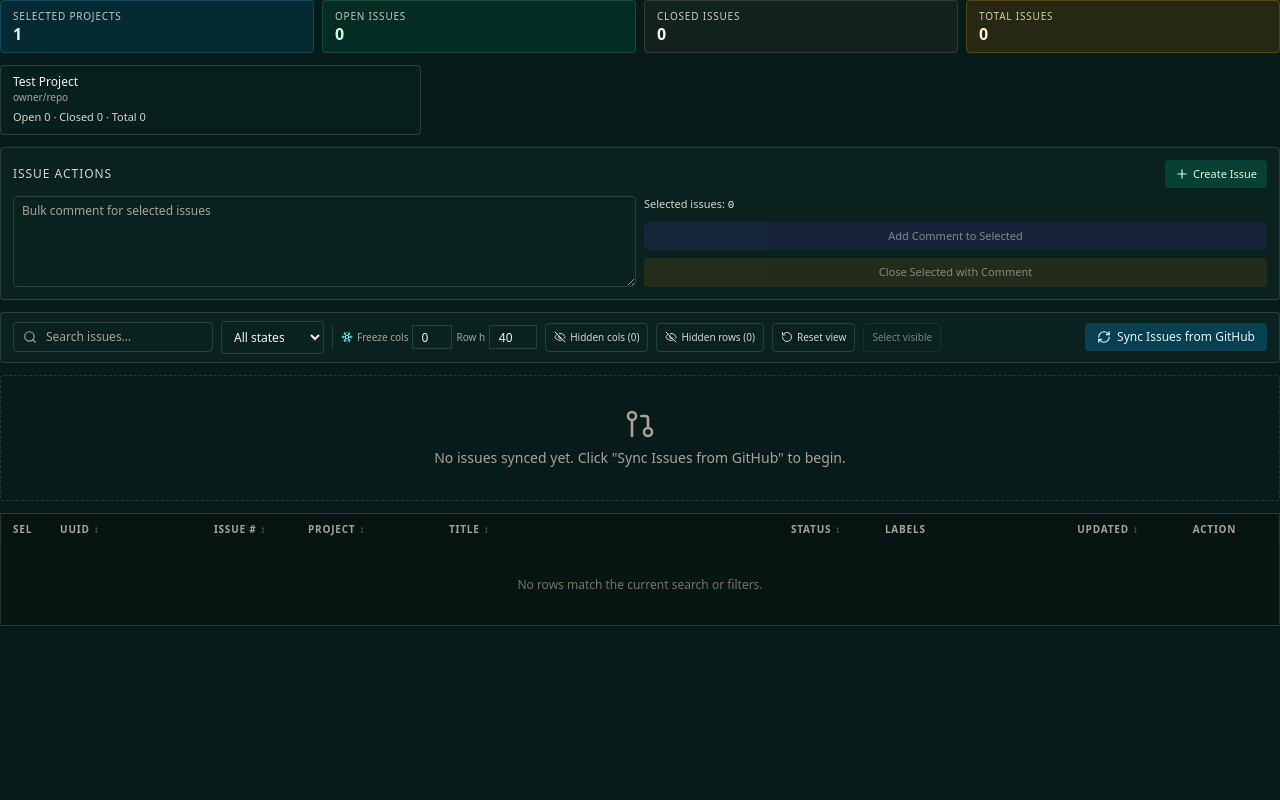
Test: IssuesTab › explains repository lookup failures as URL or authorization problems
The image size is (1280, 800).
Click the button "Sync Issues from GitHub": (1176, 337) [1085,323,1267,351]
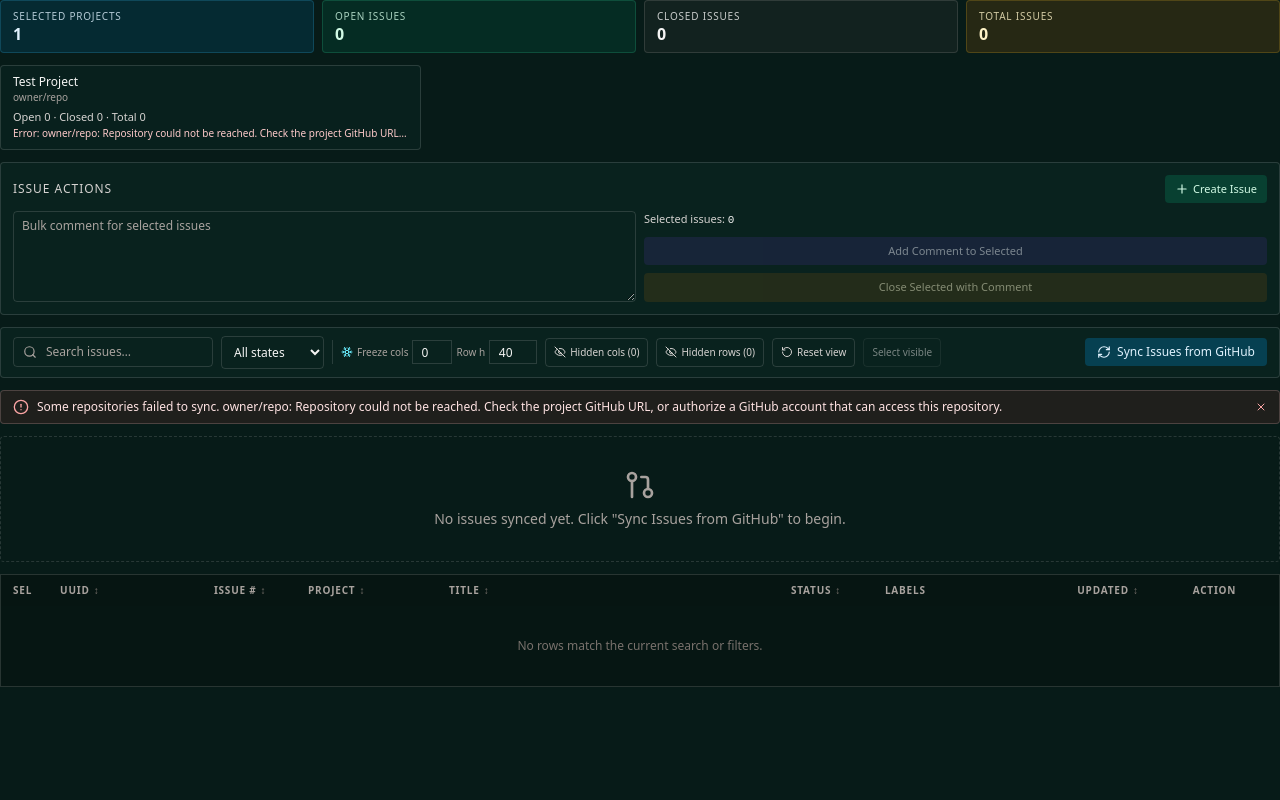
Check: the text "Check the project GitHub URL" is shown, box [13,126,401,154]
